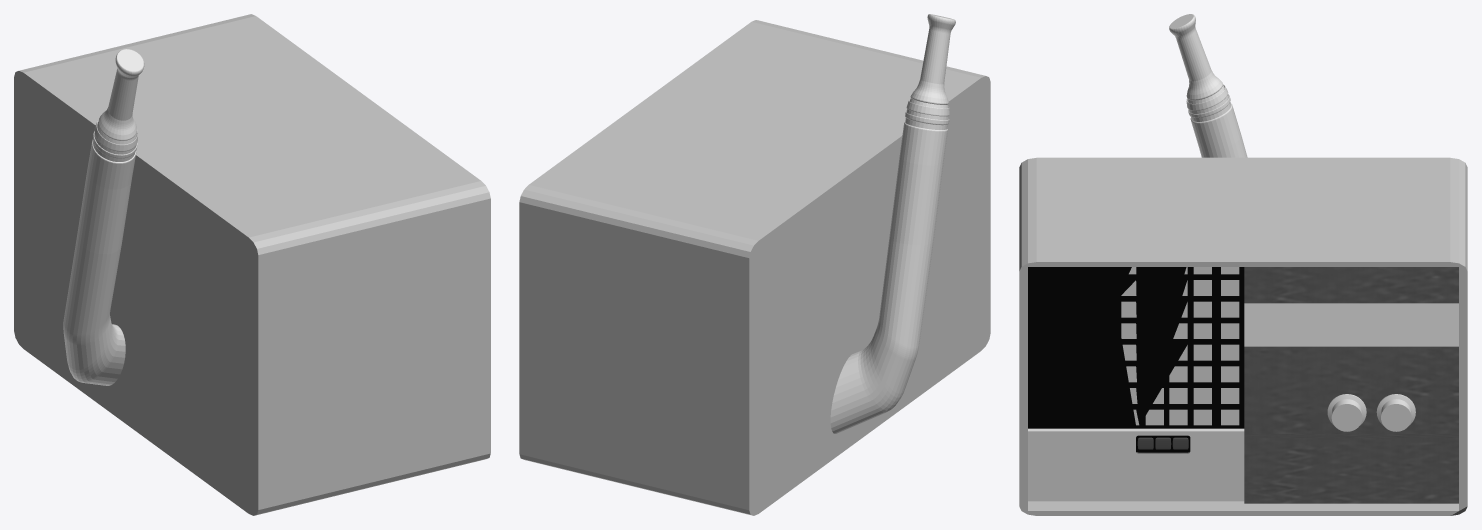
The model's file is radio_Scene.fbx.
The picture shows the model from 3 angles, left to right: view 1: azimuth 30°, elevation 25°; view 2: azimuth 150°, elevation 25°; view 3: azimuth 270°, elevation 25°; orthographic projection. The views are drawn at different scales.
Parts seen in each view (by area): view 1: Cube, Cylinder.003; view 2: Cube, Cylinder.003; view 3: Cube, Cylinder.003, Cylinder, Cylinder.001, Cube.001.
Boxes of the visible parts, x1,y1,x2,y2 form: Cube: (14,14,490,515); Cylinder.003: (63,49,144,385); Cube: (519,20,990,515); Cylinder.003: (830,14,955,433); Cube: (1019,157,1467,515); Cylinder.003: (1169,14,1247,157); Cylinder: (1376,394,1415,431); Cylinder.001: (1327,394,1366,431); Cube.001: (1137,437,1188,449).
Size of the model in its own units: 221 by 298 by 320.
